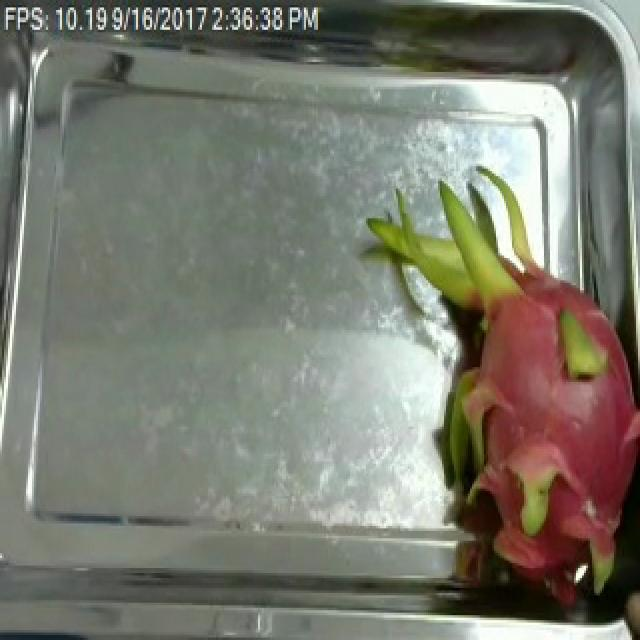fruit: (384, 176, 640, 605)
